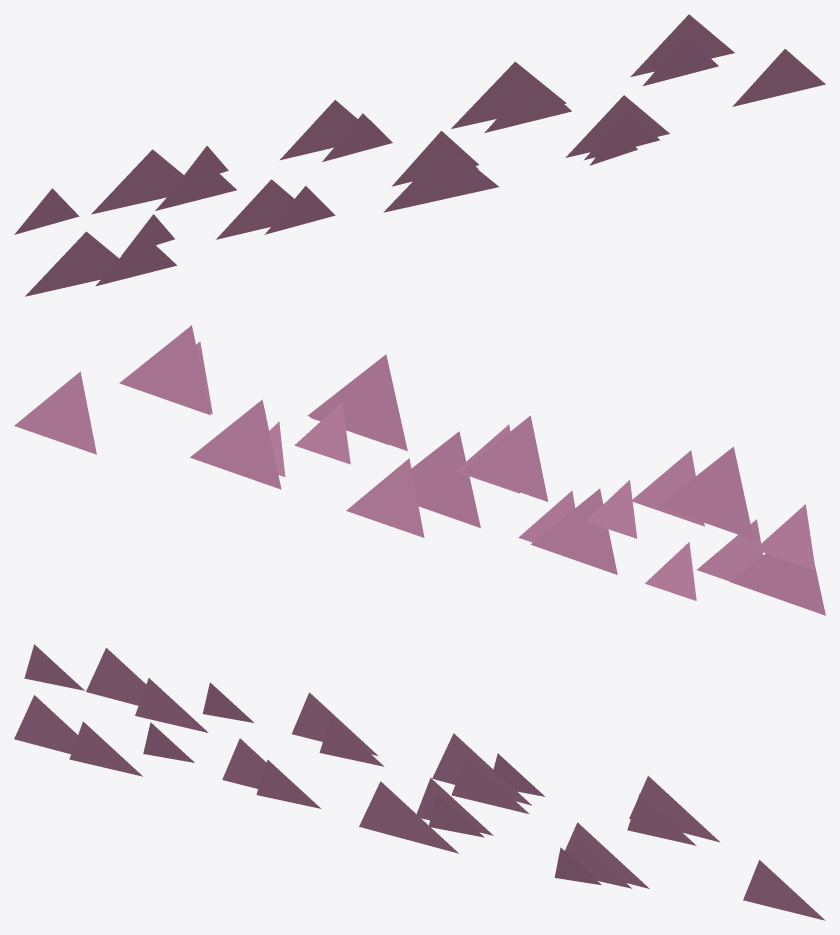
Rendered from prop_bulk_gen_0367_lod1.gltf.
The picture shows the model from 3 angles, top to bottom: view 1: azimuth 30°, elevation 25°; view 2: azimuth 150°, elevation 25°; view 3: azimuth 330°, elevation 25°; orthographic projection.
Visible parts, largest first — view 1: prop_bulk_gen_0367_lod1; view 2: prop_bulk_gen_0367_lod1; view 3: prop_bulk_gen_0367_lod1.
Boxes of the visible parts, left/top/right/bottom form: prop_bulk_gen_0367_lod1: left=14, top=14, right=825, bottom=296; prop_bulk_gen_0367_lod1: left=14, top=325, right=825, bottom=615; prop_bulk_gen_0367_lod1: left=14, top=644, right=825, bottom=920.
Bounding box in the file's own units: 0.803 × 0.1286 × 0.0785.
